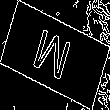M_S: (32, 23, 78, 87)
